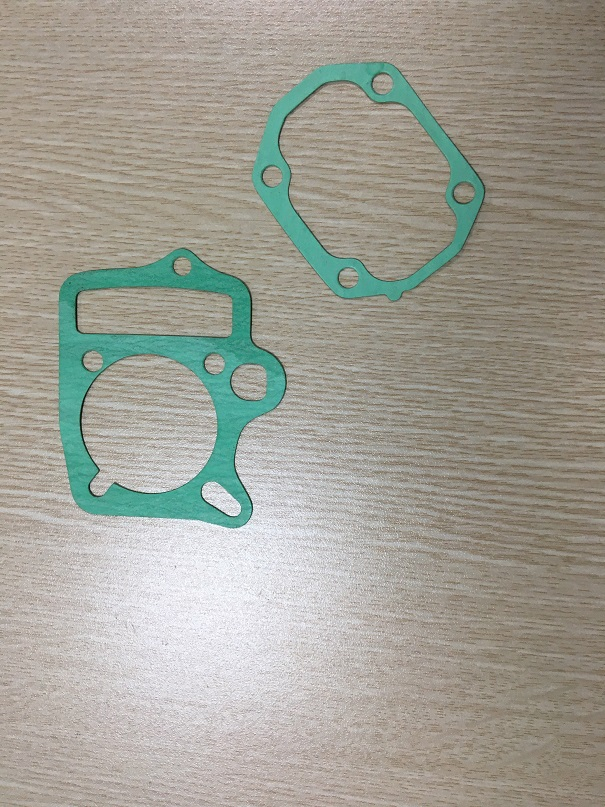type2: (249, 55, 493, 311)
type4: (46, 242, 293, 537)
